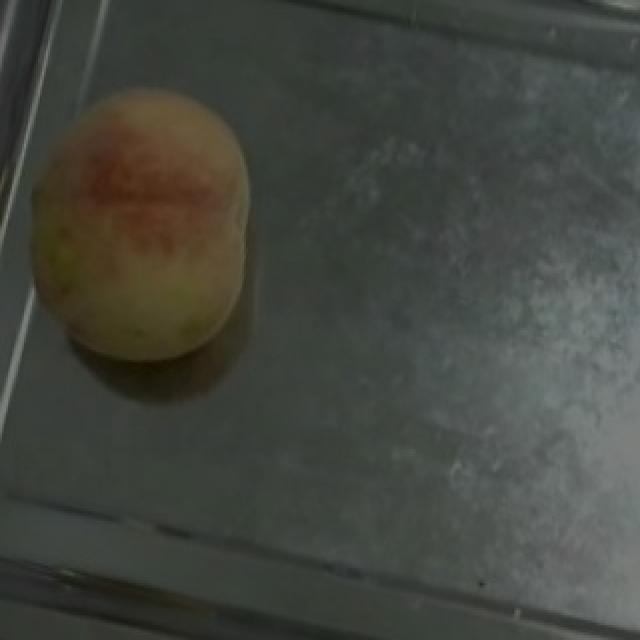Fruit: (0, 47, 294, 404)
